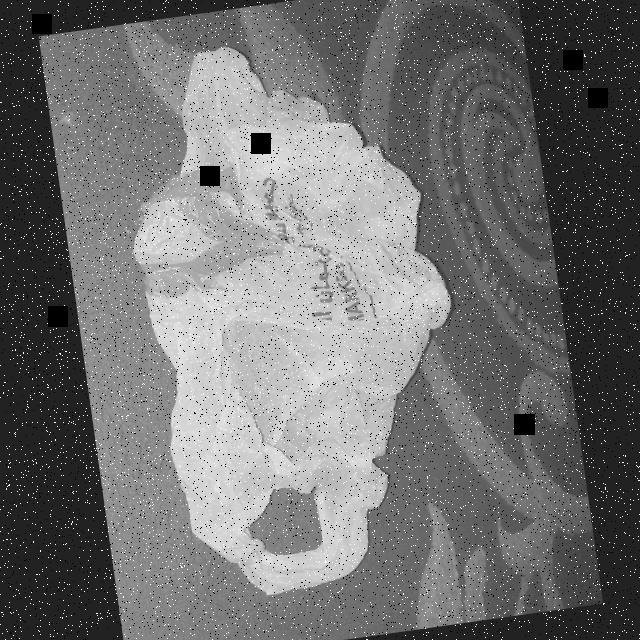plastic_bag: (102, 11, 497, 612)
